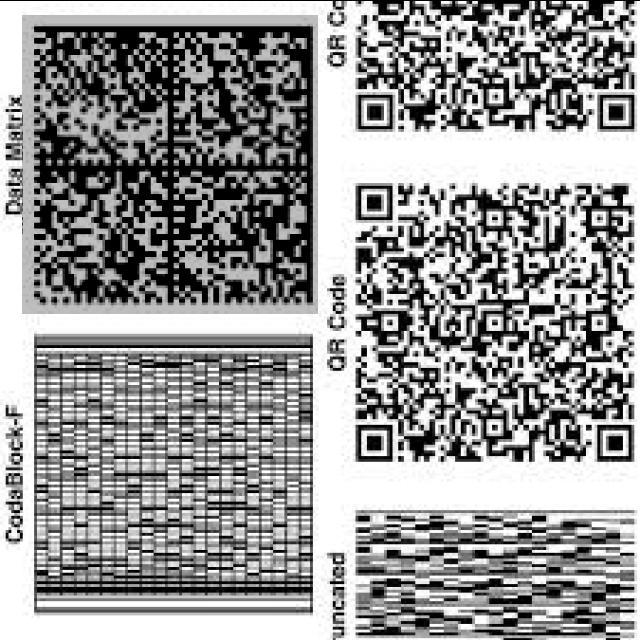DataMatrix: (22, 14, 318, 313)
